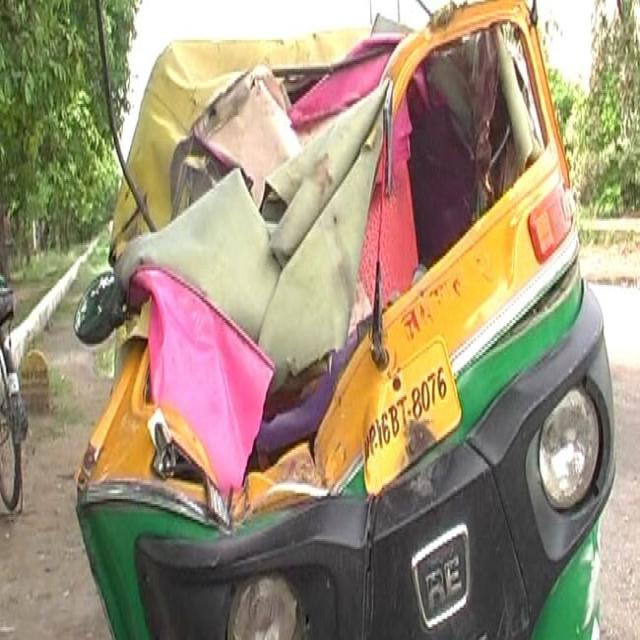accident: (75, 0, 614, 637)
